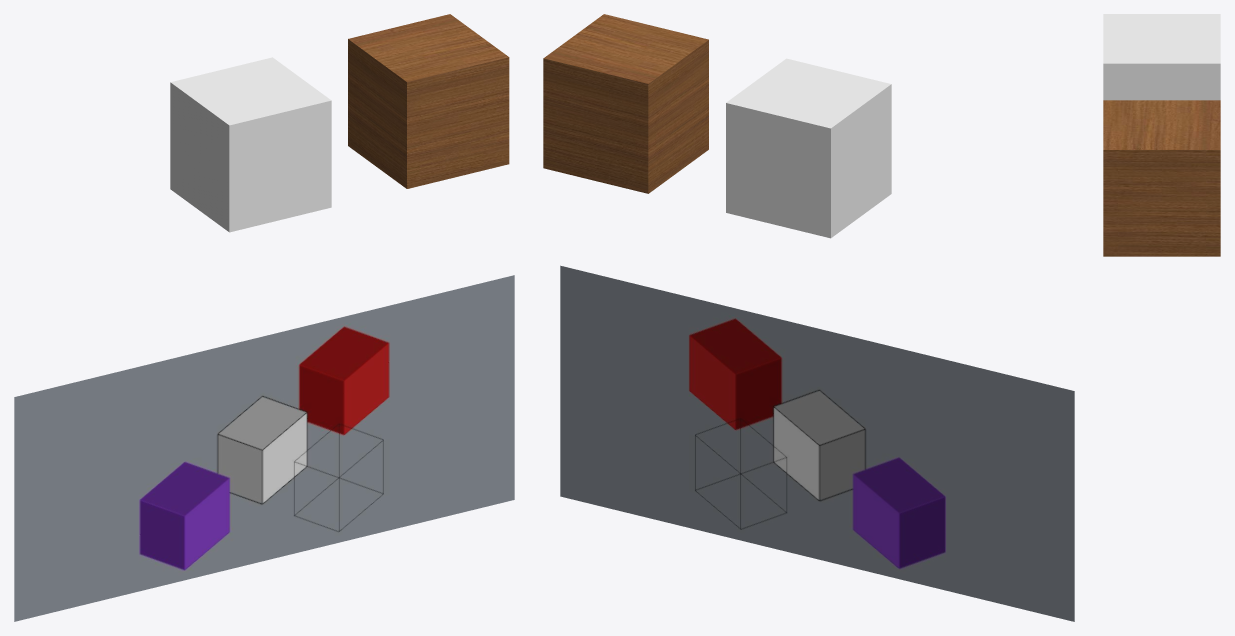
The model's file is asset.glb.
3 views of the same model, side by side, from view 1: azimuth 30°, elevation 25°; view 2: azimuth 150°, elevation 25°; view 3: azimuth 270°, elevation 25° (orthographic). The views are drawn at different scales.
Parts seen in each view (by area): view 1: dimension2, object 2, Layer 02; view 2: dimension2, Layer 02, object 2; view 3: Layer 02, object 2.
Part boxes in pixels (left/top/right/bottom): dimension2: left=14, top=275, right=514, bottom=621; object 2: left=170, top=57, right=331, bottom=232; Layer 02: left=348, top=14, right=509, bottom=188; dimension2: left=560, top=265, right=1074, bottom=621; Layer 02: left=543, top=14, right=708, bottom=193; object 2: left=726, top=58, right=891, bottom=238; Layer 02: left=1103, top=100, right=1220, bottom=256; object 2: left=1103, top=14, right=1220, bottom=100.
Bounding box in the file's own units: 1.47 × 1.3 × 0.3.
Materials: 3 (2 with a texture image).
